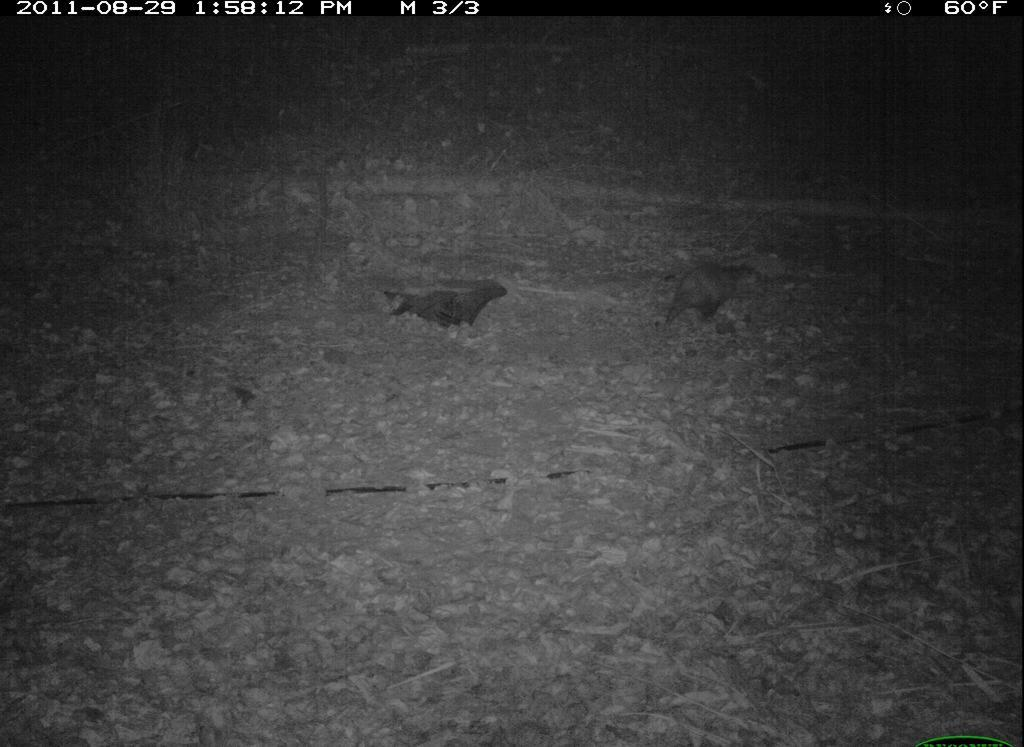opossum: (634, 259, 771, 332)
